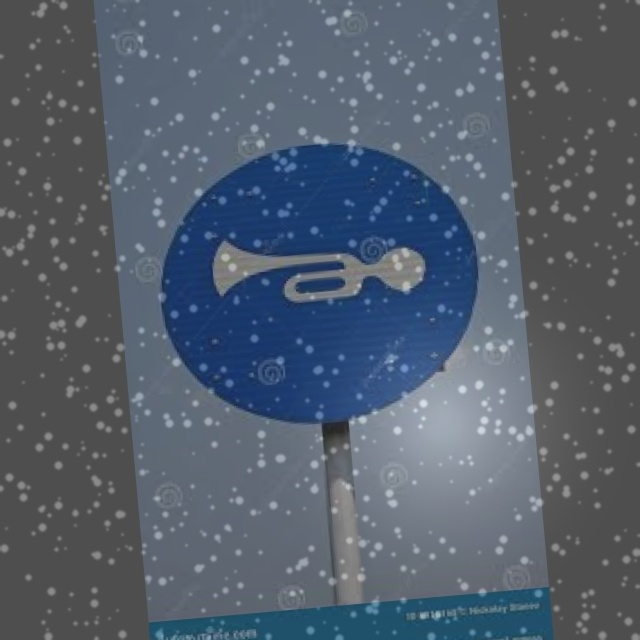Compulsory_Sound_Horn: (149, 127, 490, 429)
